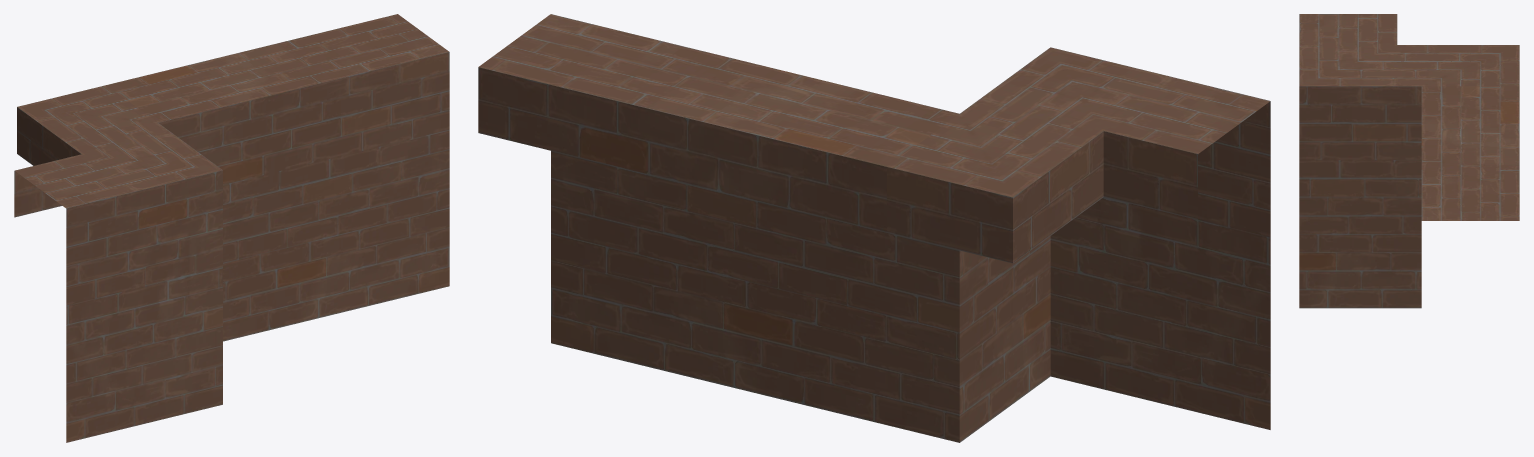
The model's file is Cornice_Brick_90Angle_L.glb.
3 views of the same model, side by side, from view 1: azimuth 30°, elevation 25°; view 2: azimuth 150°, elevation 25°; view 3: azimuth 270°, elevation 25° (orthographic). The views are drawn at different scales.
Parts seen in each view (by area): view 1: Cornice_Brick_90Angle_L; view 2: Cornice_Brick_90Angle_L; view 3: Cornice_Brick_90Angle_L.
Part boxes in pixels (<box>): Cornice_Brick_90Angle_L: <box>14,14,449,442</box>; Cornice_Brick_90Angle_L: <box>478,14,1270,442</box>; Cornice_Brick_90Angle_L: <box>1299,14,1519,308</box>.
Size of the model in its own units: 2 by 1 by 0.9.
1 material, 1 textured.
